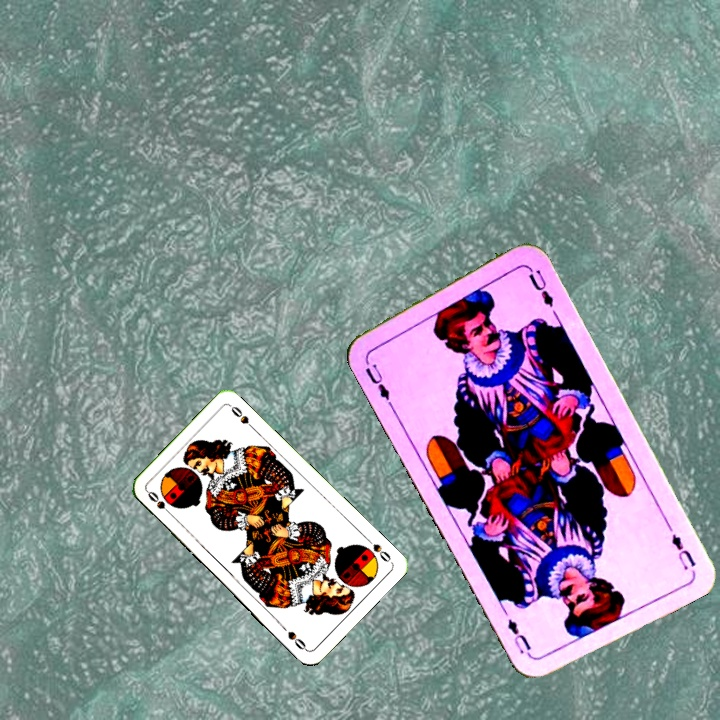EU: (361, 359, 394, 407), (667, 530, 698, 573)
SO: (143, 487, 176, 519), (362, 533, 394, 565)
